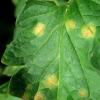Tomato mold leaf: (2, 1, 99, 99)
